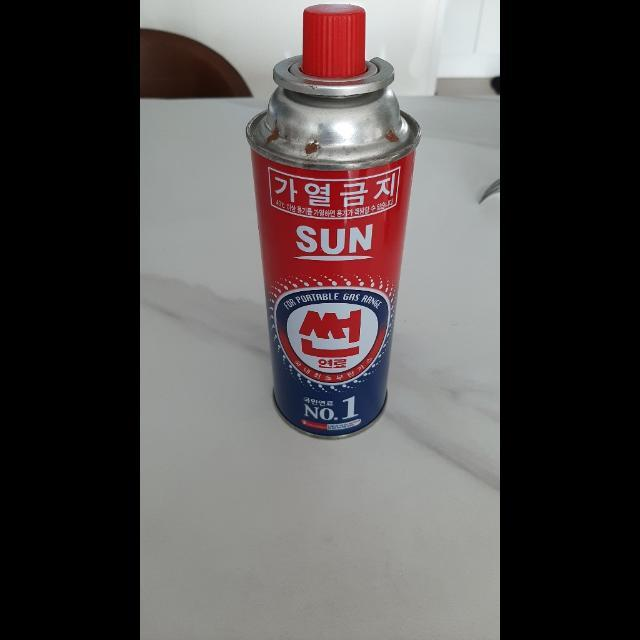chemical_spray_can: (233, 6, 437, 456)
